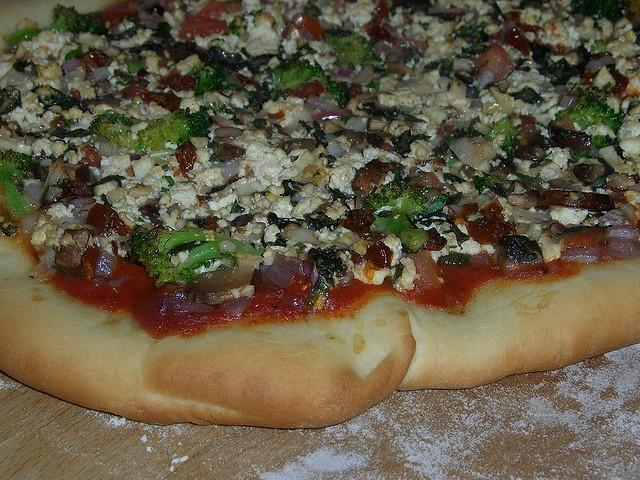broccoli: (124, 224, 265, 278), (263, 42, 348, 109), (155, 241, 237, 288), (136, 105, 214, 151), (5, 3, 91, 44), (555, 87, 624, 136), (320, 28, 384, 66), (1, 150, 34, 221), (568, 1, 636, 30), (482, 116, 520, 162), (371, 211, 412, 243), (188, 61, 225, 96), (388, 190, 429, 217), (546, 56, 580, 86), (508, 87, 540, 103), (106, 113, 125, 124)
onion: (187, 266, 255, 292), (573, 164, 637, 190), (446, 137, 484, 169), (160, 298, 214, 318), (602, 237, 640, 260), (272, 252, 306, 276), (210, 156, 245, 179), (264, 264, 294, 290), (600, 224, 640, 243), (560, 246, 600, 264), (220, 295, 252, 317), (311, 108, 353, 124), (304, 94, 340, 112), (286, 228, 321, 246), (68, 198, 94, 220), (94, 250, 114, 278), (24, 180, 46, 205), (586, 54, 614, 73), (329, 118, 366, 132), (350, 64, 372, 86), (562, 135, 592, 151), (5, 81, 32, 96), (212, 114, 236, 130), (477, 68, 494, 90), (214, 127, 244, 139), (323, 144, 348, 158), (604, 209, 628, 222), (560, 90, 578, 107), (62, 60, 83, 74), (598, 215, 624, 226), (94, 66, 110, 82), (46, 186, 62, 202), (169, 288, 190, 300), (45, 246, 55, 267), (140, 20, 158, 30), (68, 217, 87, 225), (344, 14, 353, 30), (527, 219, 543, 226)
